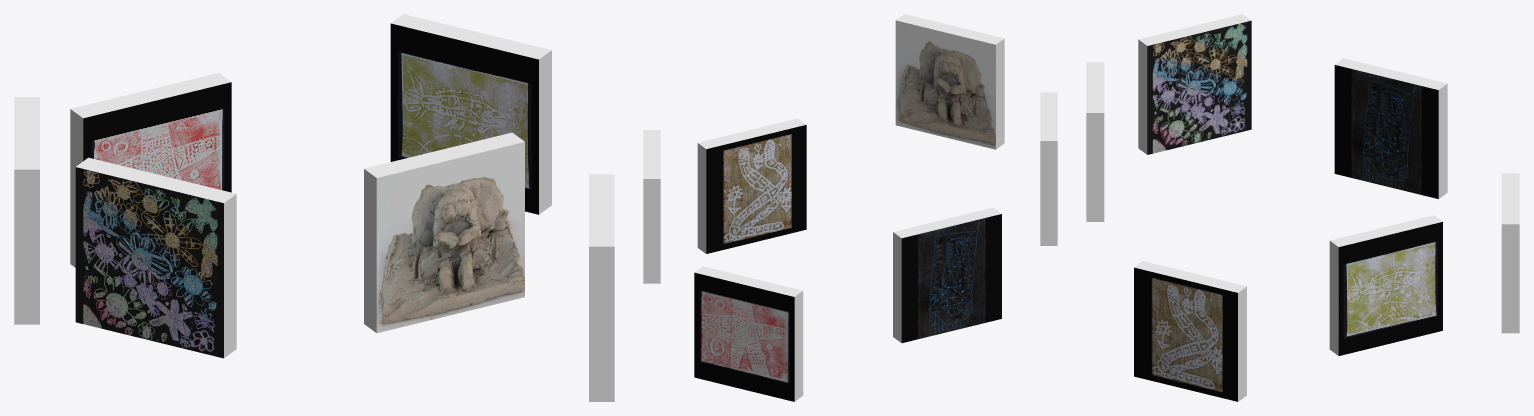
The model's file is 6_square.obj.
The picture shows the model from 3 angles, left to right: view 1: azimuth 30°, elevation 25°; view 2: azimuth 150°, elevation 25°; view 3: azimuth 270°, elevation 25°; orthographic projection. The views are drawn at different scales.
Parts seen in each view (by area): view 1: Cube_5, Cube_4, Cube_2, Cube_1, Cube_3, Cube_6; view 2: Cube_1, Cube_4, Cube_3, Cube_6, Cube_2, Cube_5; view 3: Cube_5, Cube_6, Cube_2, Cube_3, Cube_1, Cube_4.
Boxes of the visible parts, x1,y1,x2,y2 form: Cube_5: [75, 157, 236, 358]; Cube_4: [364, 132, 524, 333]; Cube_2: [390, 14, 551, 214]; Cube_1: [70, 73, 231, 267]; Cube_3: [589, 174, 614, 401]; Cube_6: [14, 97, 39, 324]; Cube_1: [694, 266, 803, 401]; Cube_4: [895, 14, 1004, 149]; Cube_3: [697, 118, 806, 253]; Cube_6: [893, 207, 1001, 342]; Cube_2: [643, 130, 660, 283]; Cube_5: [1040, 92, 1057, 245]; Cube_5: [1138, 14, 1251, 154]; Cube_6: [1334, 58, 1447, 198]; Cube_2: [1329, 215, 1442, 355]; Cube_3: [1134, 261, 1246, 401]; Cube_1: [1501, 173, 1519, 333]; Cube_4: [1086, 62, 1104, 221].
Bounding box in the file's own units: 1102 × 609 × 1080.
